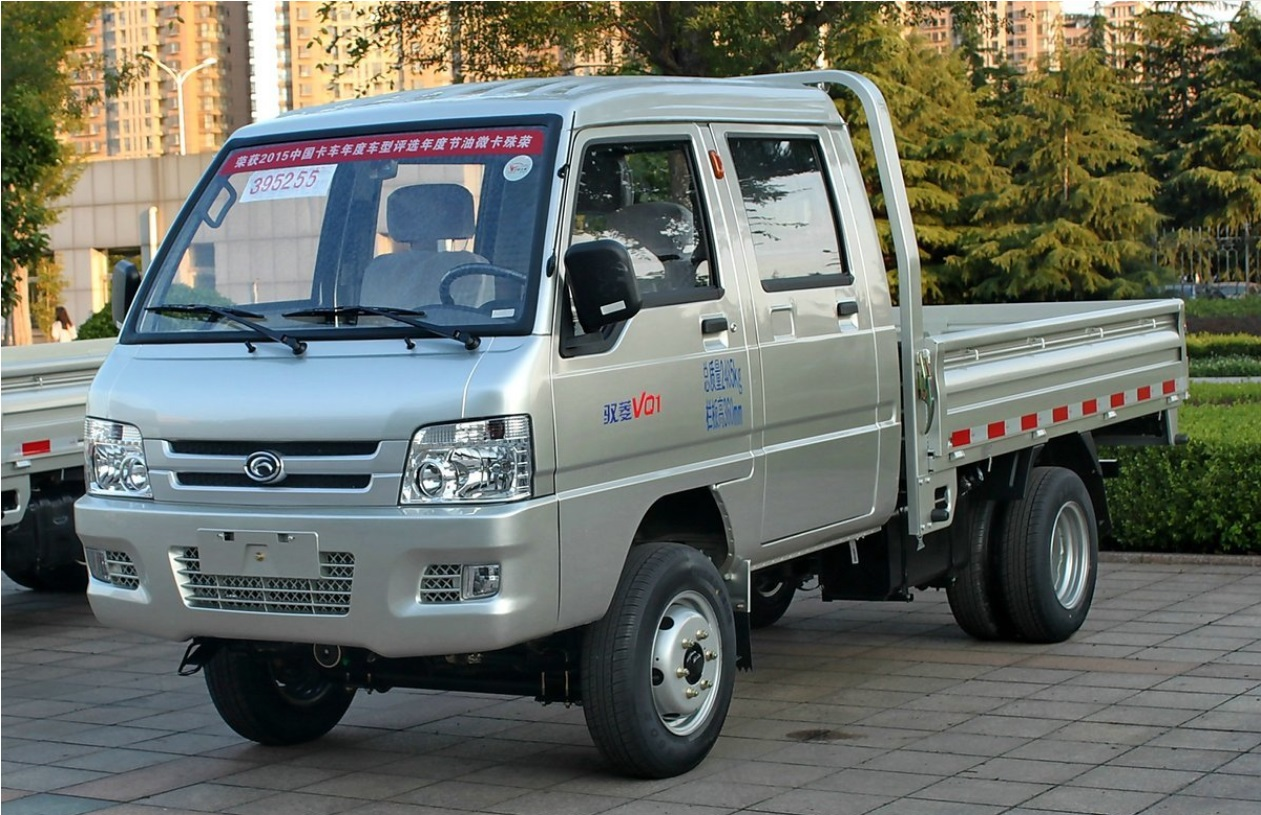truck: (71, 66, 1194, 790)
